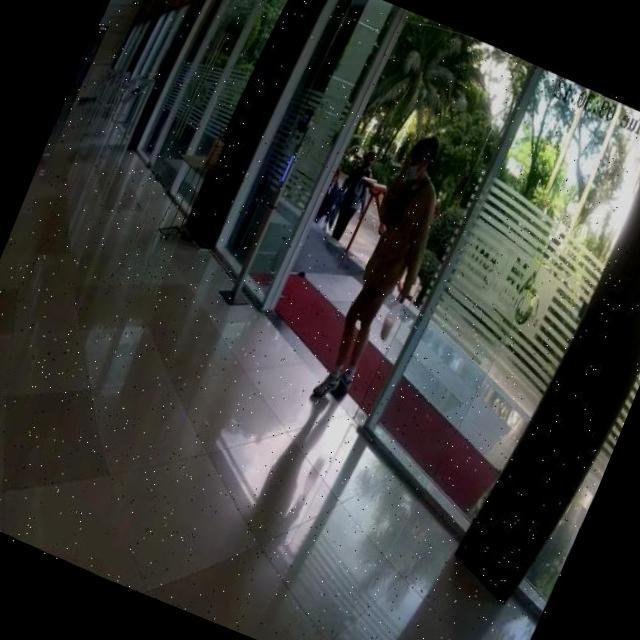person: (300, 124, 462, 412), (322, 146, 382, 248)
